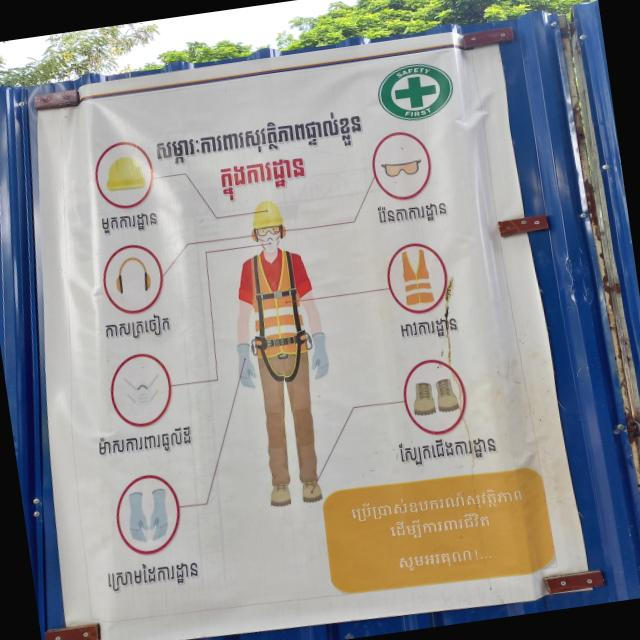Yolov11_80vkh: (152, 106, 370, 170), (349, 482, 526, 523), (218, 155, 312, 204), (100, 553, 204, 597), (393, 429, 499, 470), (95, 423, 193, 461), (385, 510, 495, 543), (102, 308, 178, 343), (371, 198, 449, 229), (396, 312, 463, 344), (98, 208, 163, 238), (396, 548, 474, 573)
